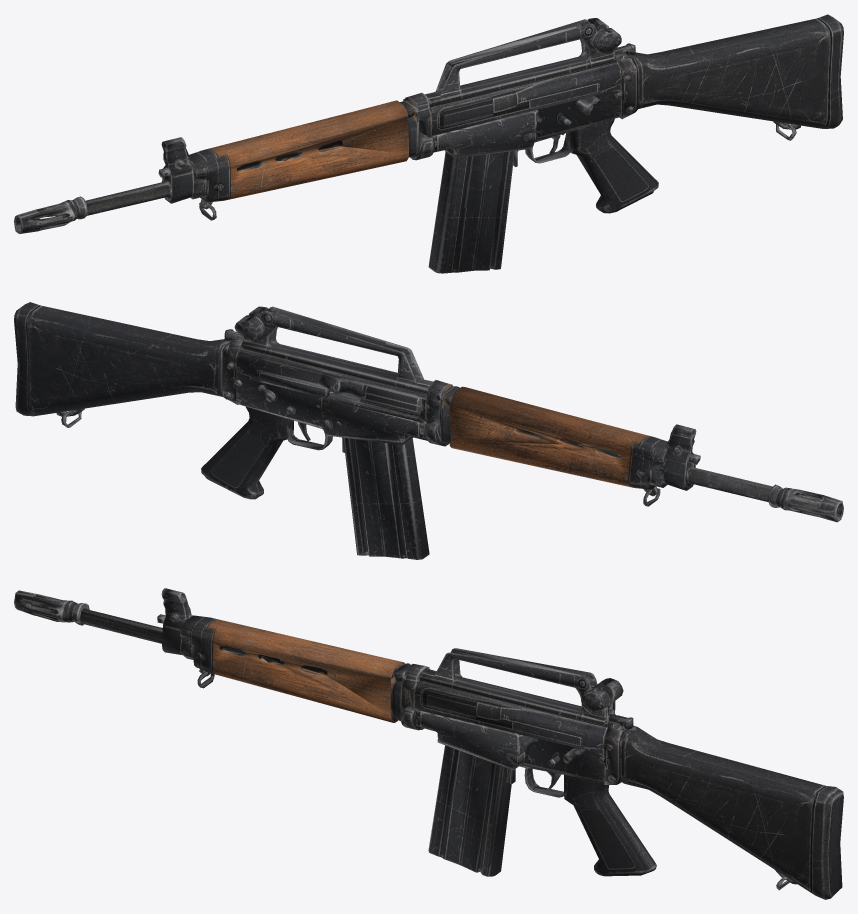
The model's file is Meshy_AI_model.fbx.
The picture shows the model from 3 angles, top to bottom: view 1: azimuth 30°, elevation 25°; view 2: azimuth 150°, elevation 25°; view 3: azimuth 330°, elevation 25°; orthographic projection.
Parts seen in each view (by area): view 1: Mesh_0; view 2: Mesh_0; view 3: Mesh_0.
Part boxes in pixels (x1,y1,x2,y2): Mesh_0: (14, 14, 843, 273); Mesh_0: (14, 302, 843, 559); Mesh_0: (14, 588, 843, 899).
Bounding box in the file's own units: 94.97 × 24.41 × 4.25.
1 material, 1 textured.
